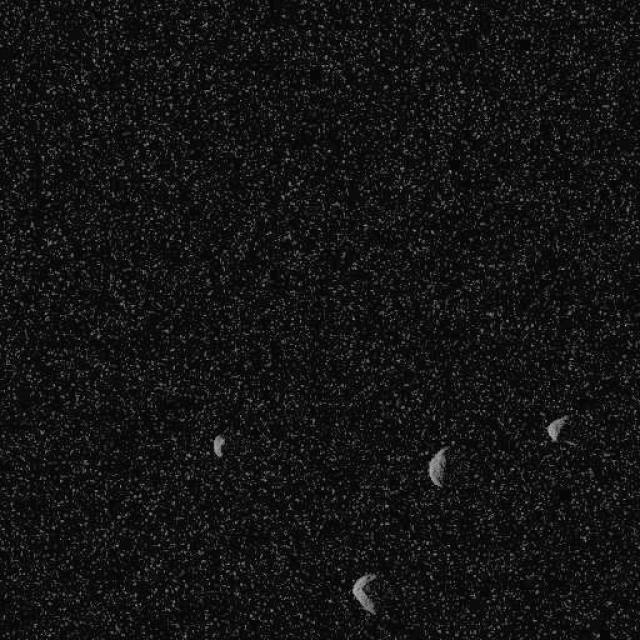D2: (351, 571, 379, 615), (427, 447, 448, 488), (544, 414, 568, 441), (211, 432, 225, 458)
